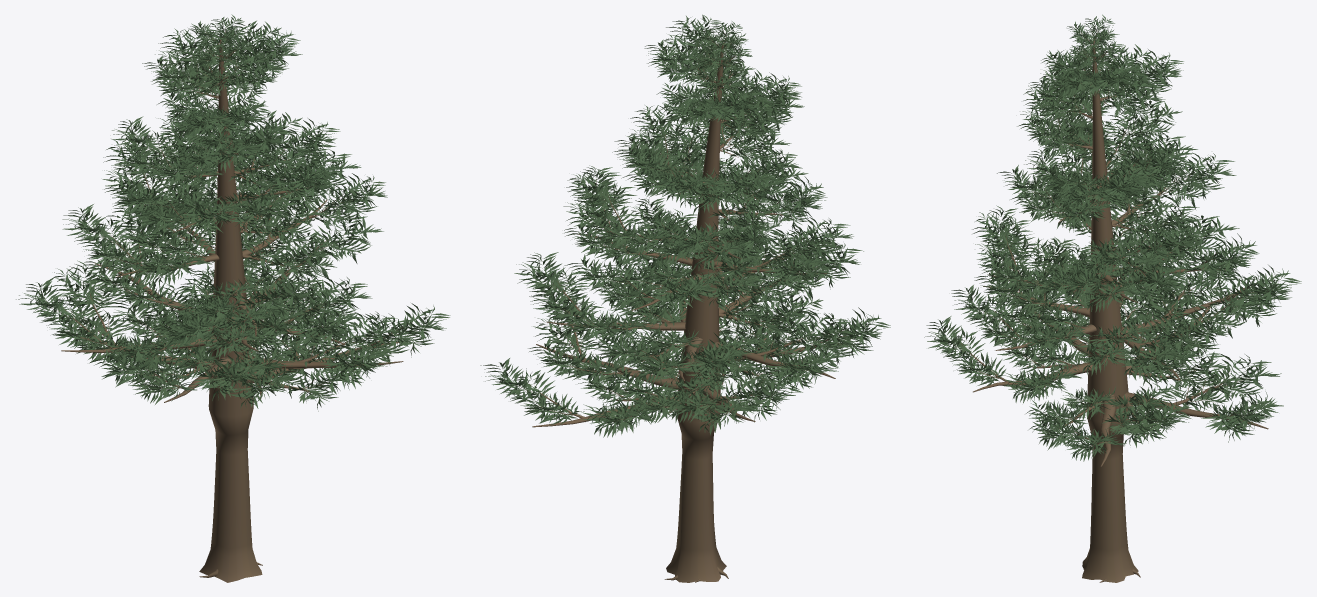
File: corealm_pine_3.glb
3 views of the same model, side by side, from view 1: azimuth 30°, elevation 25°; view 2: azimuth 150°, elevation 25°; view 3: azimuth 270°, elevation 25° (orthographic). The views are drawn at different scales.
Visible parts, largest first — view 1: corealm_pine_3; view 2: corealm_pine_3; view 3: corealm_pine_3.
Part boxes in pixels (bbox=[...]): corealm_pine_3: bbox=[16, 14, 450, 582]; corealm_pine_3: bbox=[480, 14, 890, 582]; corealm_pine_3: bbox=[924, 14, 1301, 582].
Size of the model in its own units: 5.24 by 7.69 by 4.95.
